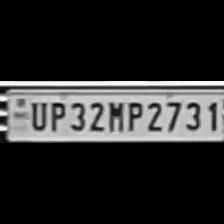1: (204, 98, 220, 132)
2: (144, 99, 164, 134), (86, 98, 104, 132)
3: (66, 98, 86, 132), (182, 99, 202, 131)
7: (162, 98, 180, 132)
M: (104, 99, 124, 134)
P: (46, 98, 66, 132), (122, 98, 142, 132)
U: (26, 99, 46, 131)
